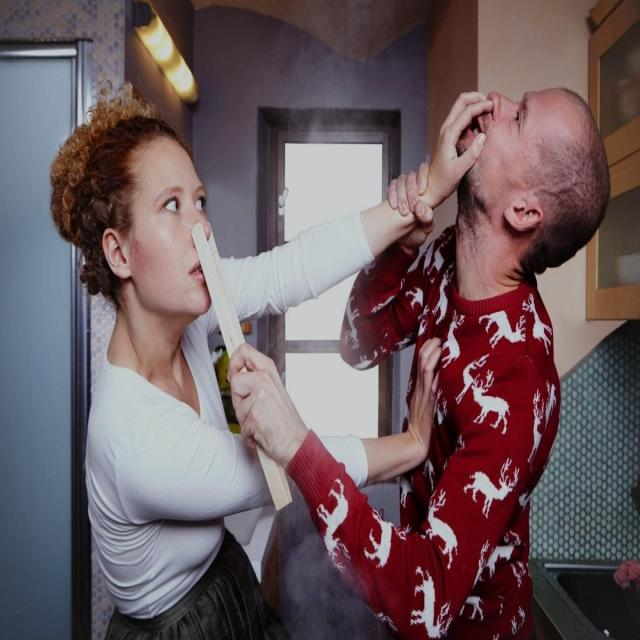fight: (42, 54, 615, 640)
